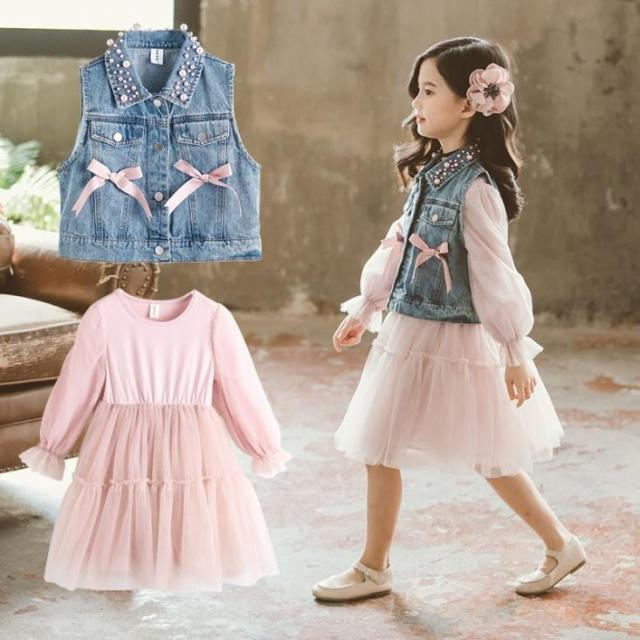clothes: (27, 288, 284, 591), (340, 152, 563, 482), (64, 21, 266, 268)
